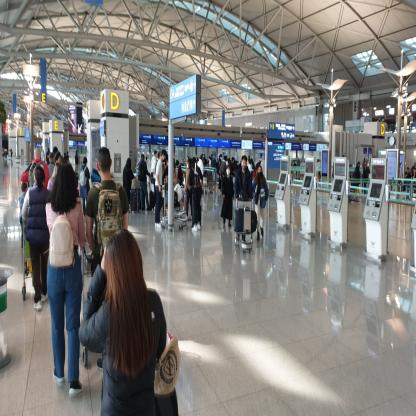airport-trolley: (16, 216, 48, 301), (231, 189, 258, 255), (158, 183, 192, 235)
